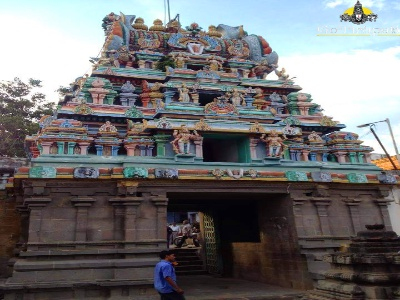gopura: (28, 10, 372, 184)
